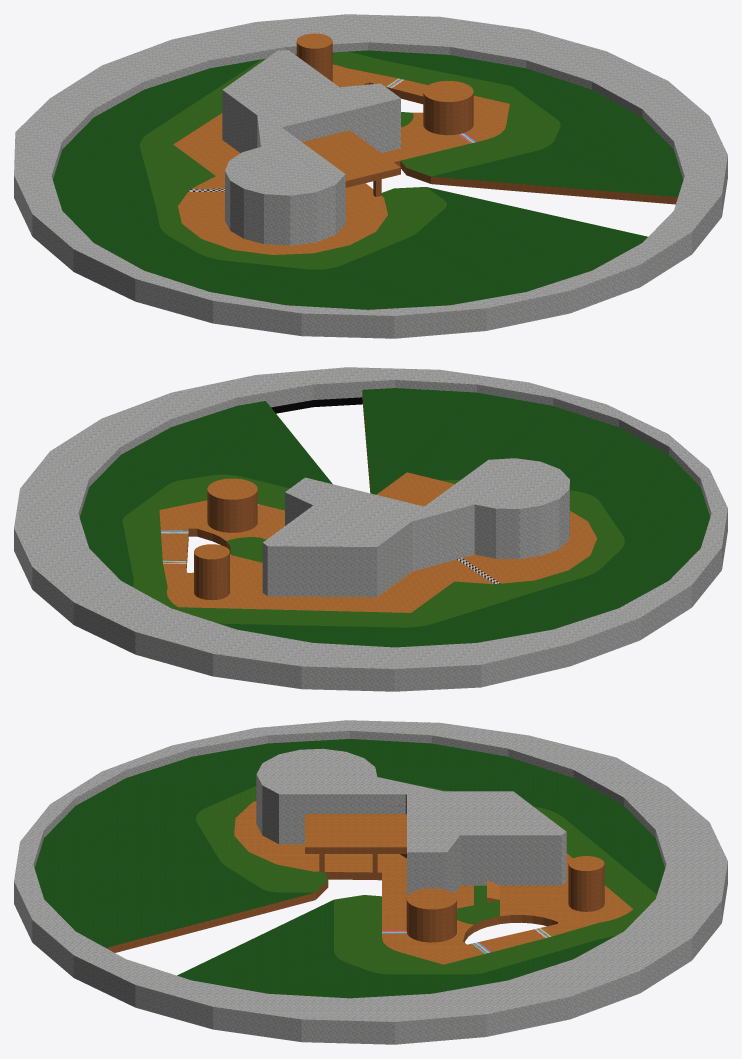
3 renders of one model, top to bottom at view 1: azimuth 30°, elevation 25°; view 2: azimuth 150°, elevation 25°; view 3: azimuth 270°, elevation 25°, orthographic.
Visible parts, largest first — view 1: WoodCircuitv2-SKP--SteinWand, WoodCircuitv2-SKP--Material2, WoodCircuitv2-SKP--Material1, WoodCircuitv2-SKP--Strae, WoodCircuitv2-SKP--HolzWand; view 2: WoodCircuitv2-SKP--SteinWand, WoodCircuitv2-SKP--Material2, WoodCircuitv2-SKP--Strae, WoodCircuitv2-SKP--Material1, WoodCircuitv2-SKP--HolzWand, WoodCircuitv2-SKP--Default_Material; view 3: WoodCircuitv2-SKP--SteinWand, WoodCircuitv2-SKP--Material2, WoodCircuitv2-SKP--Strae, WoodCircuitv2-SKP--Material1, WoodCircuitv2-SKP--HolzWand.
Boxes of the visible parts, x1,y1,x2,y2 form: WoodCircuitv2-SKP--SteinWand: [14, 14, 727, 338]; WoodCircuitv2-SKP--Material2: [53, 50, 683, 309]; WoodCircuitv2-SKP--Material1: [140, 51, 560, 269]; WoodCircuitv2-SKP--Strae: [173, 33, 509, 254]; WoodCircuitv2-SKP--HolzWand: [296, 42, 677, 204]; WoodCircuitv2-SKP--SteinWand: [14, 367, 727, 691]; WoodCircuitv2-SKP--Material2: [79, 388, 710, 647]; WoodCircuitv2-SKP--Strae: [159, 472, 597, 612]; WoodCircuitv2-SKP--Material1: [122, 474, 624, 627]; WoodCircuitv2-SKP--HolzWand: [186, 392, 370, 599]; WoodCircuitv2-SKP--Default_Material: [271, 397, 362, 413]; WoodCircuitv2-SKP--SteinWand: [14, 720, 727, 1044]; WoodCircuitv2-SKP--Material2: [34, 739, 664, 998]; WoodCircuitv2-SKP--Strae: [234, 801, 632, 964]; WoodCircuitv2-SKP--Material1: [196, 782, 656, 974]; WoodCircuitv2-SKP--HolzWand: [106, 847, 604, 952].
Size of what is drawn, in the model's own units: 88625 by 8877 by 88625.
8 materials, 8 textured.
